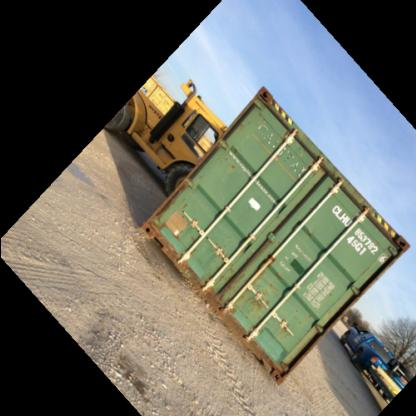Damage: (160, 202, 202, 249), (254, 121, 283, 153), (280, 152, 310, 178), (252, 298, 278, 316), (262, 254, 282, 271), (224, 154, 242, 172), (260, 90, 278, 106), (398, 240, 412, 258)
